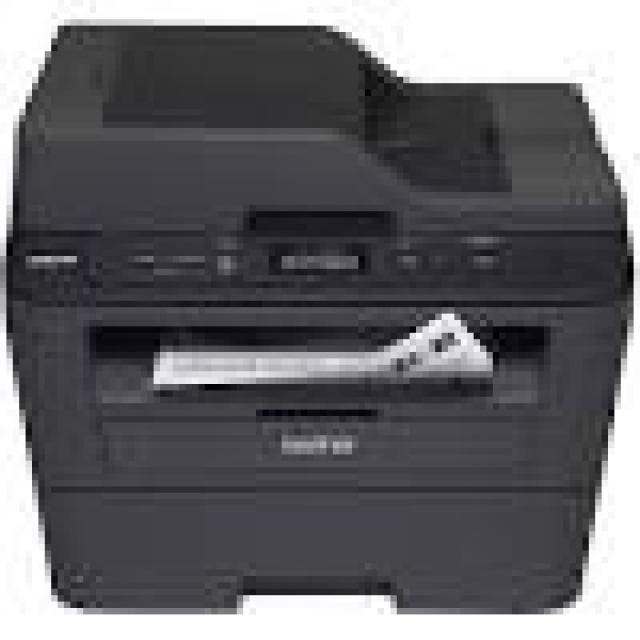printer: (5, 16, 636, 624)
